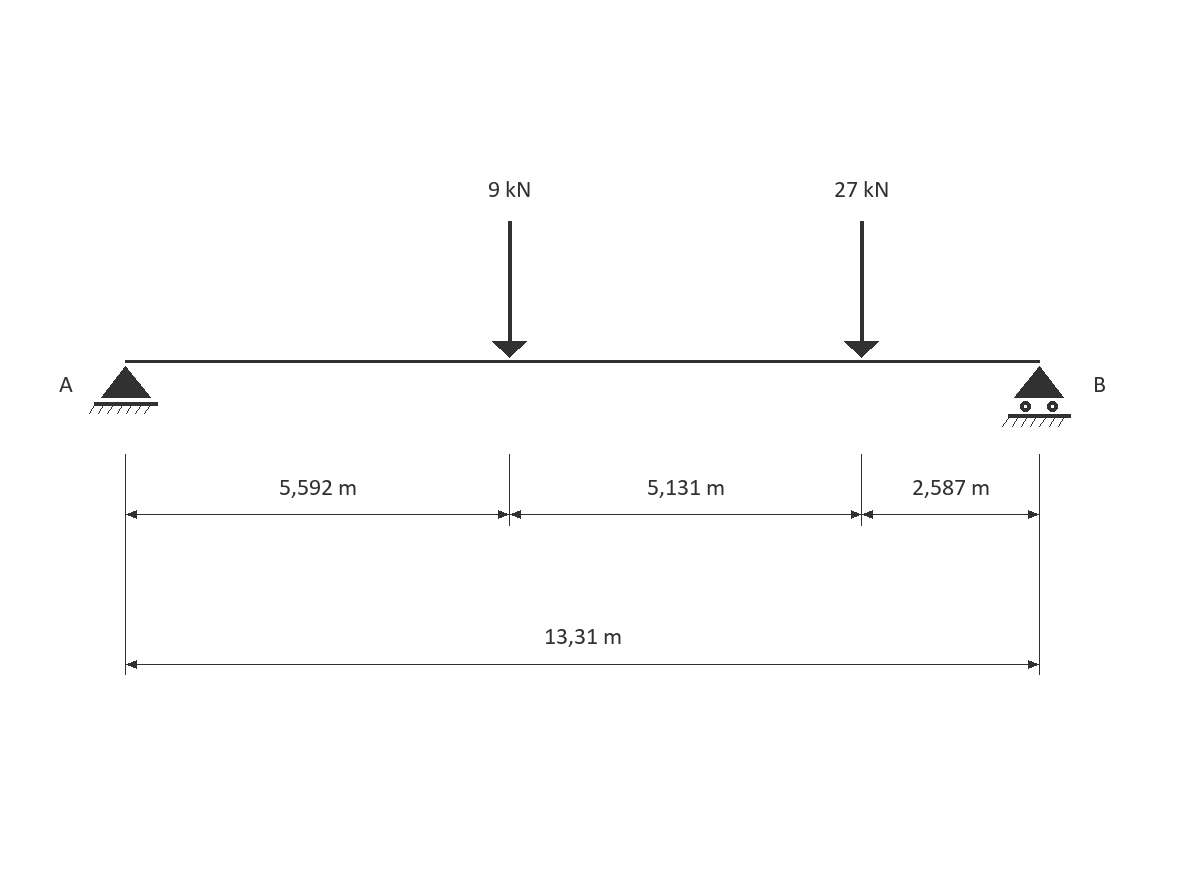pin_support: (89, 366, 158, 414)
point_load: (492, 221, 527, 358), (844, 221, 879, 358)
roller_support: (1002, 366, 1071, 427)
